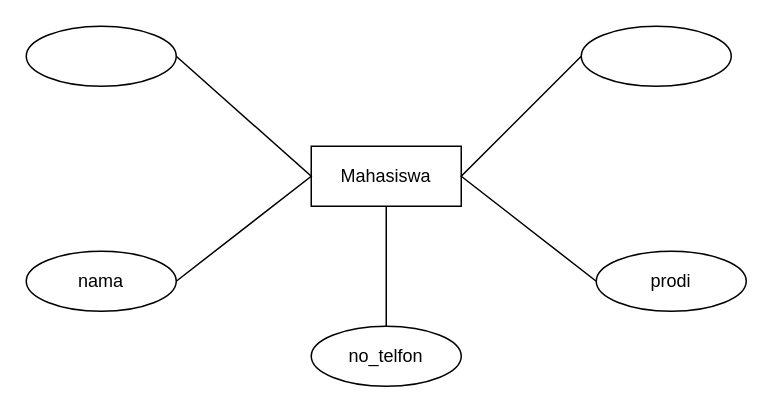
This 773x413 diagram has some shape labels left out. Here are the shapes that lost their labels. From the top down, the centre of each, then its label:
At point (100, 55): "nim".
At point (655, 55): "alamat".
